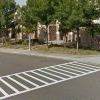crosswalk: (0, 61, 99, 100)
